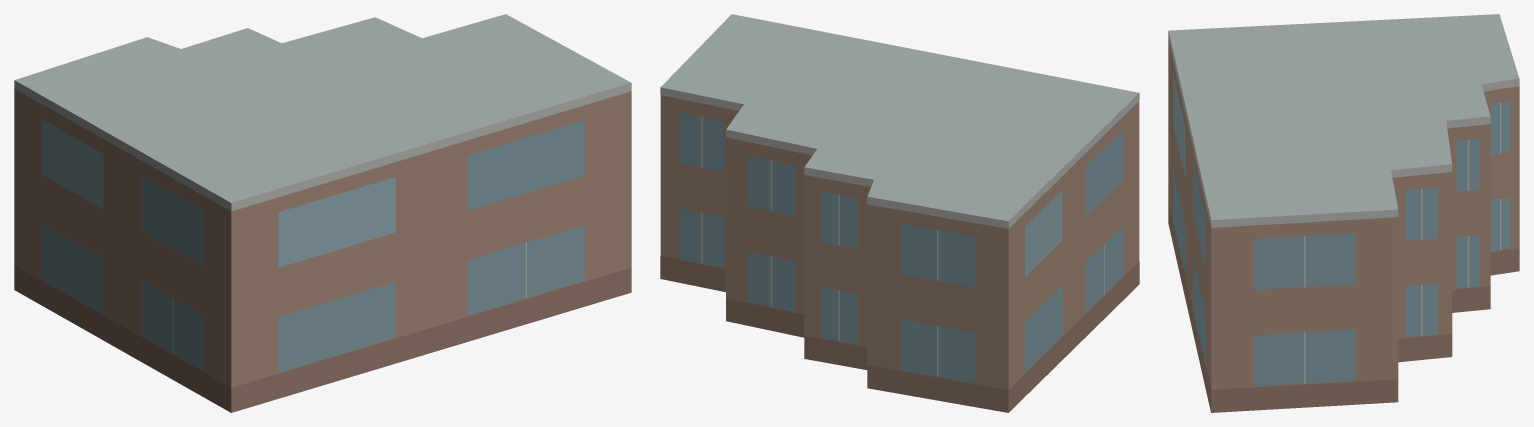
File: survey-upis-32787984.glb
3 renders of one model, left to right at view 1: azimuth 30°, elevation 25°; view 2: azimuth 150°, elevation 25°; view 3: azimuth 270°, elevation 25°, orthographic. The views are drawn at different scales.
Visible parts, largest first — view 1: survey-upis-32787984.tmp; view 2: survey-upis-32787984.tmp; view 3: survey-upis-32787984.tmp.
Boxes of the visible parts, x1,y1,x2,y2 form: survey-upis-32787984.tmp: [14, 14, 631, 412]; survey-upis-32787984.tmp: [660, 14, 1139, 412]; survey-upis-32787984.tmp: [1168, 14, 1519, 412].
Bounding box in the file's own units: 14.01 × 6.1 × 10.09.
